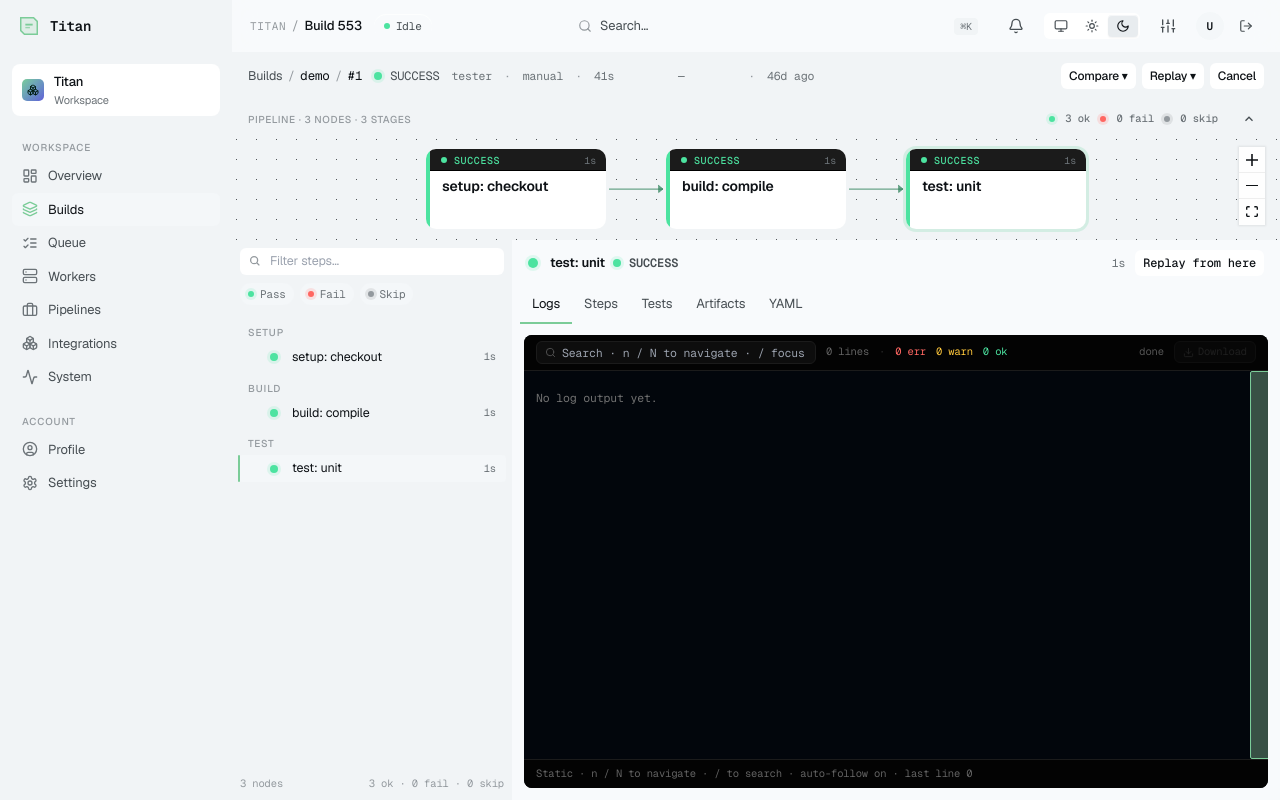
DAG collapse (#553) › collapse button hides the canvas, swaps in the summary bar, persists to localStorage
The image size is (1280, 800).
Click the button with test id "dag-collapse-btn".
click(1249, 119)  # box [1234, 108, 1264, 130]
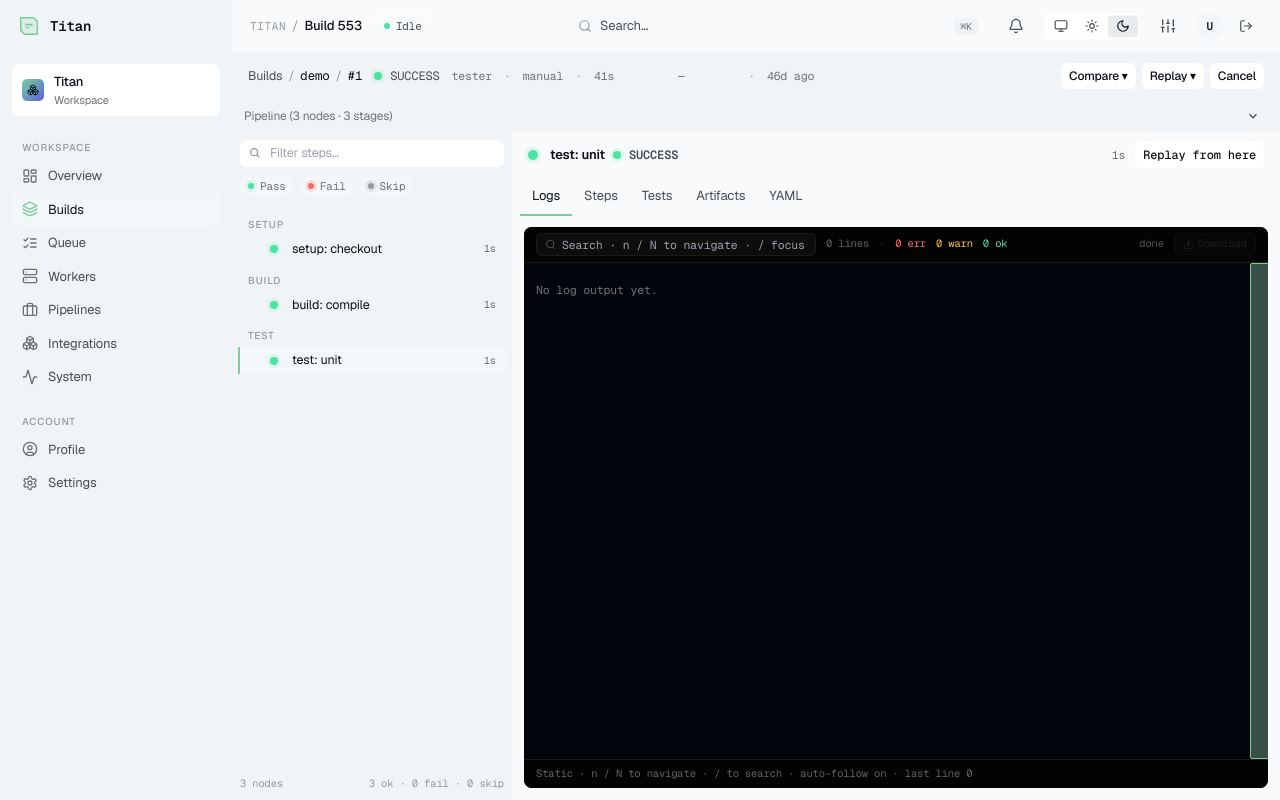
Expected: the element with test id "dag-canvas" is gone
Expected: the element with test id "dag-collapsed-bar" is shown, [232, 100, 1279, 132]
# Expand from the summary bar restores the canvas + persists "0".
Click the button with test id "dag-expand-btn".
click(1253, 116)  # box [1238, 105, 1268, 127]
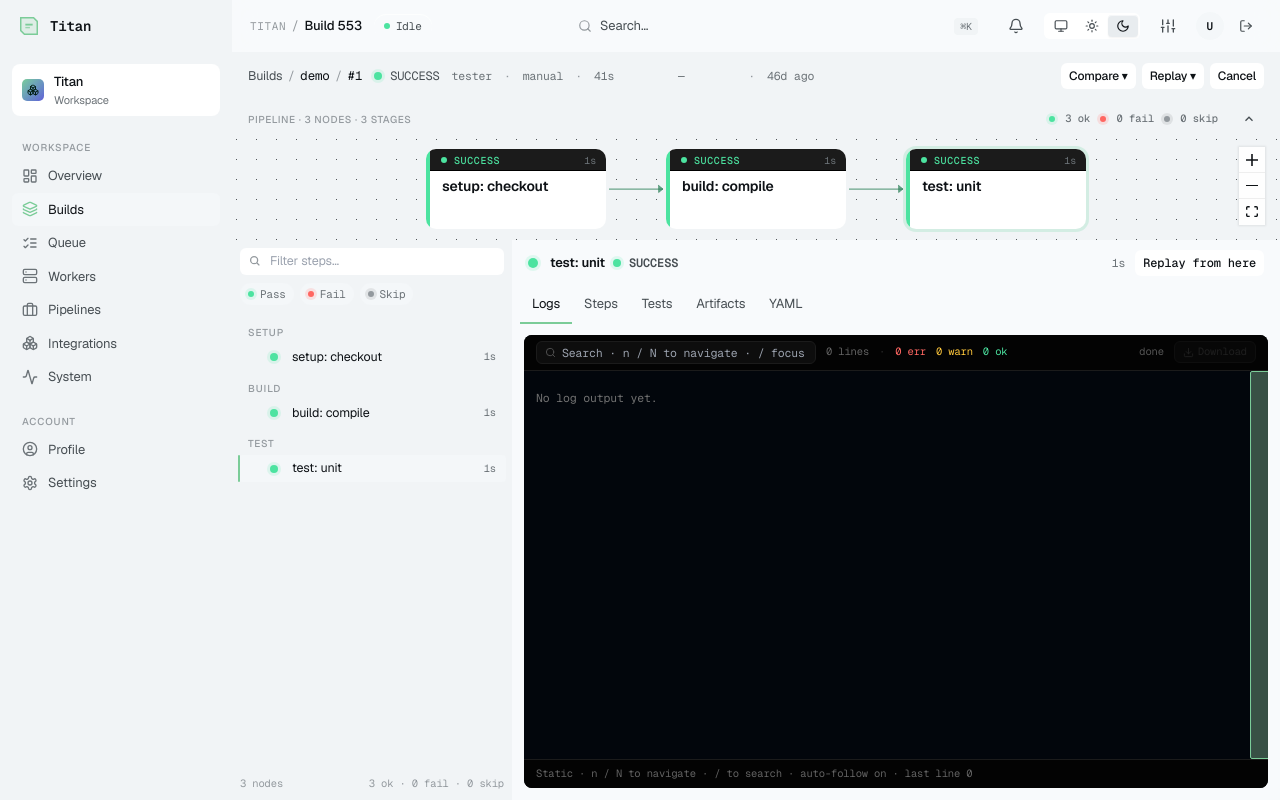
Expected: the element with test id "dag-canvas" is shown, [232, 138, 1279, 240]
